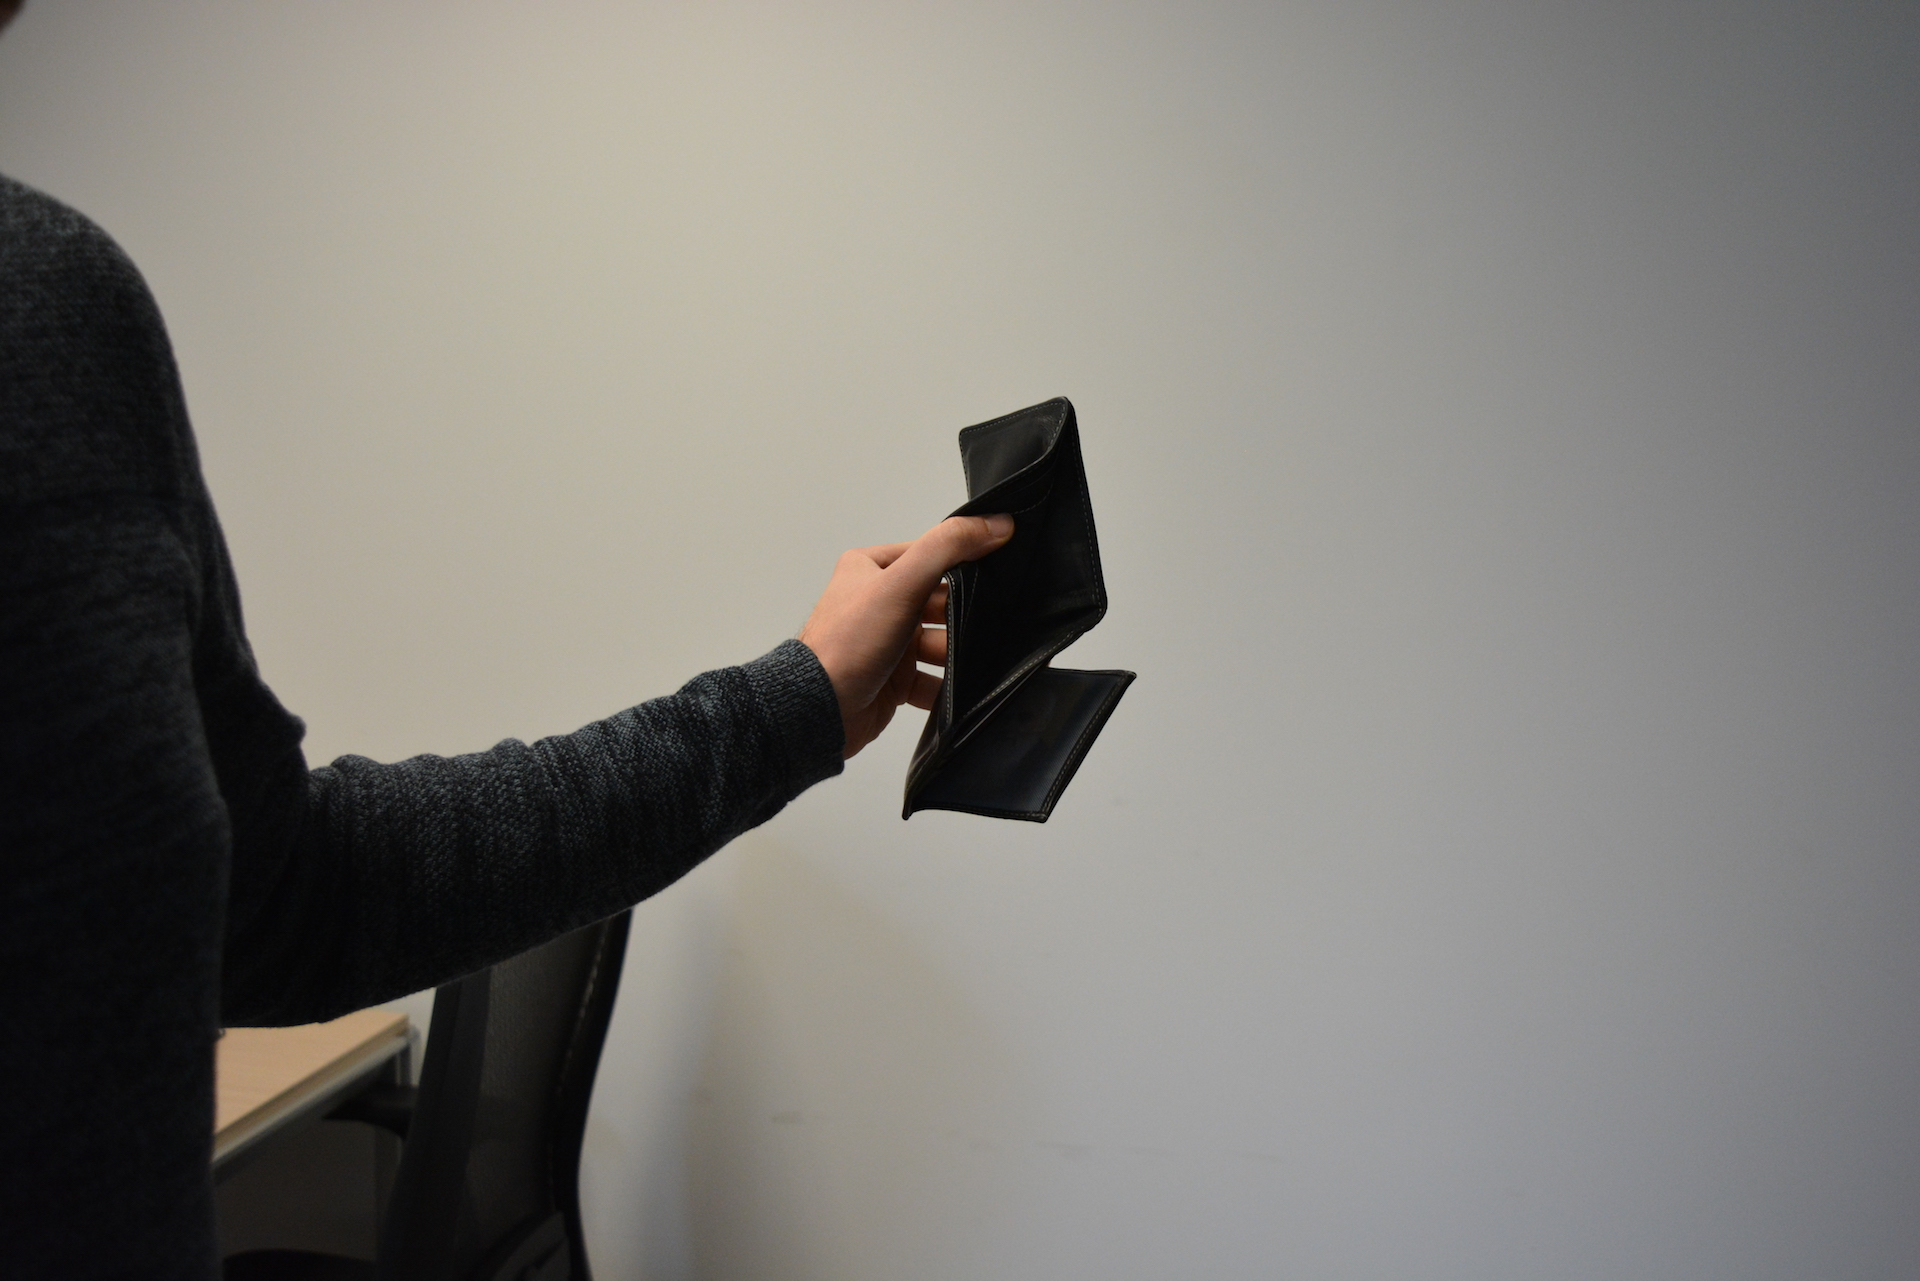monedero: (901, 395, 1141, 826)
